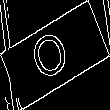O_SE: (31, 23, 79, 87)
